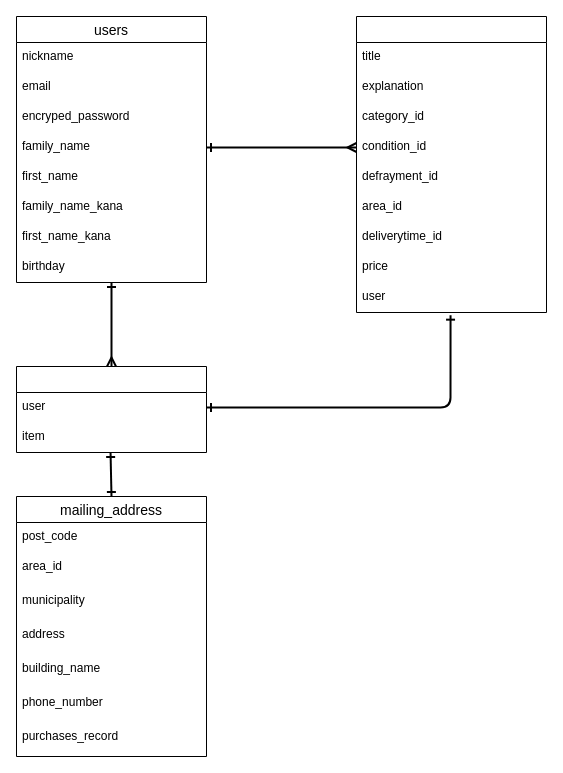
Some shapes in this 563 by 773 pixel diagram are drawn without their labels. The box of each missing label's shape, as (x1, y1, x2, y2) in pixels:
items: (356, 16, 546, 312)
purchases_records: (16, 366, 206, 452)
